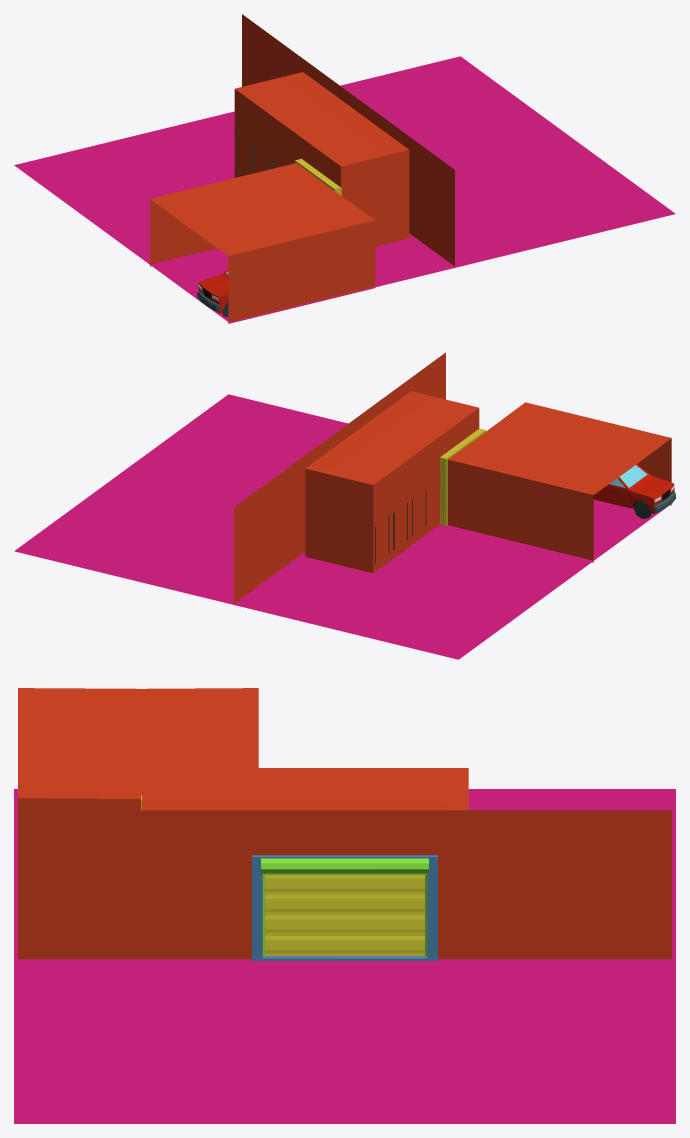
Rendered from Blender.fbx.
3 views of the same model, one above another, from view 1: azimuth 30°, elevation 25°; view 2: azimuth 150°, elevation 25°; view 3: azimuth 270°, elevation 25° (orthographic). The views are drawn at different scales.
Parts seen in each view (by area): view 1: Plane.001, Cube.005, Cube.006; view 2: Plane.001, Cube.005, Cube.006; view 3: Cube.005, Plane.001, DoorFirst, DoorSecond.
Part boxes in pixels (left/top/right/bottom): Plane.001: left=14, top=56, right=675, bottom=322; Cube.005: left=150, top=14, right=454, bottom=323; Cube.006: left=197, top=269, right=228, bottom=313; Plane.001: left=14, top=394, right=672, bottom=659; Cube.005: left=234, top=352, right=671, bottom=605; Cube.006: left=593, top=464, right=675, bottom=513; Cube.005: left=18, top=688, right=671, bottom=960; Plane.001: left=14, top=789, right=675, bottom=1123; DoorFirst: left=265, top=875, right=424, bottom=919; DoorSecond: left=265, top=919, right=424, bottom=955.
Size of the model in its own units: 2121 by 452 by 1734.
